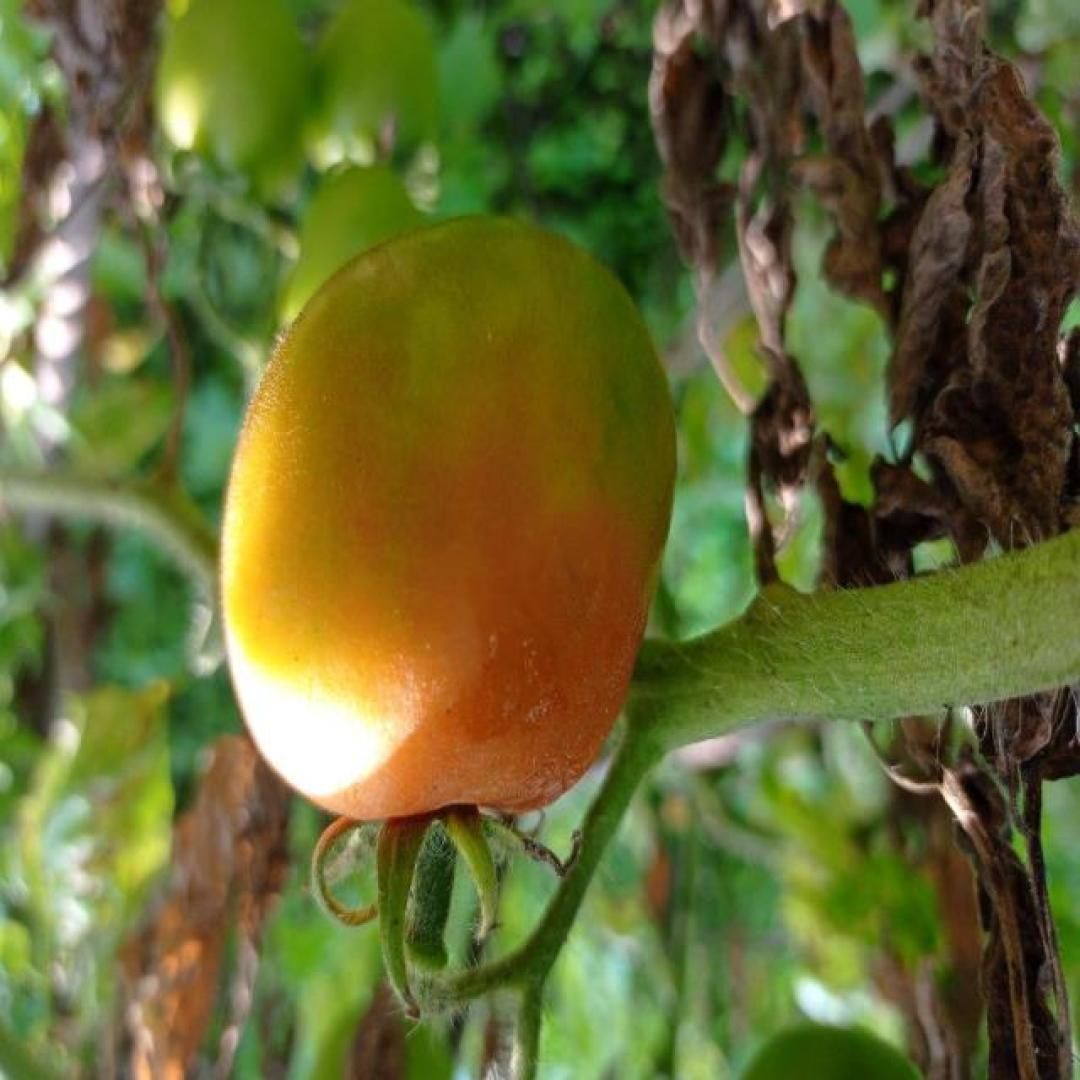setengah_matang: (218, 211, 680, 827)
